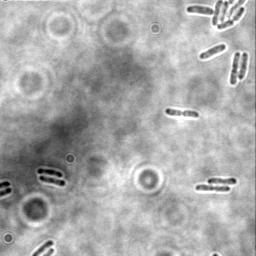Dividing: (228, 50, 242, 86), (164, 107, 200, 119), (194, 184, 232, 193), (207, 177, 238, 186)
Microcolony: (186, 1, 249, 32)
Rod: (199, 42, 227, 61), (30, 238, 54, 256), (39, 174, 67, 188), (36, 166, 64, 178), (238, 51, 249, 80)
